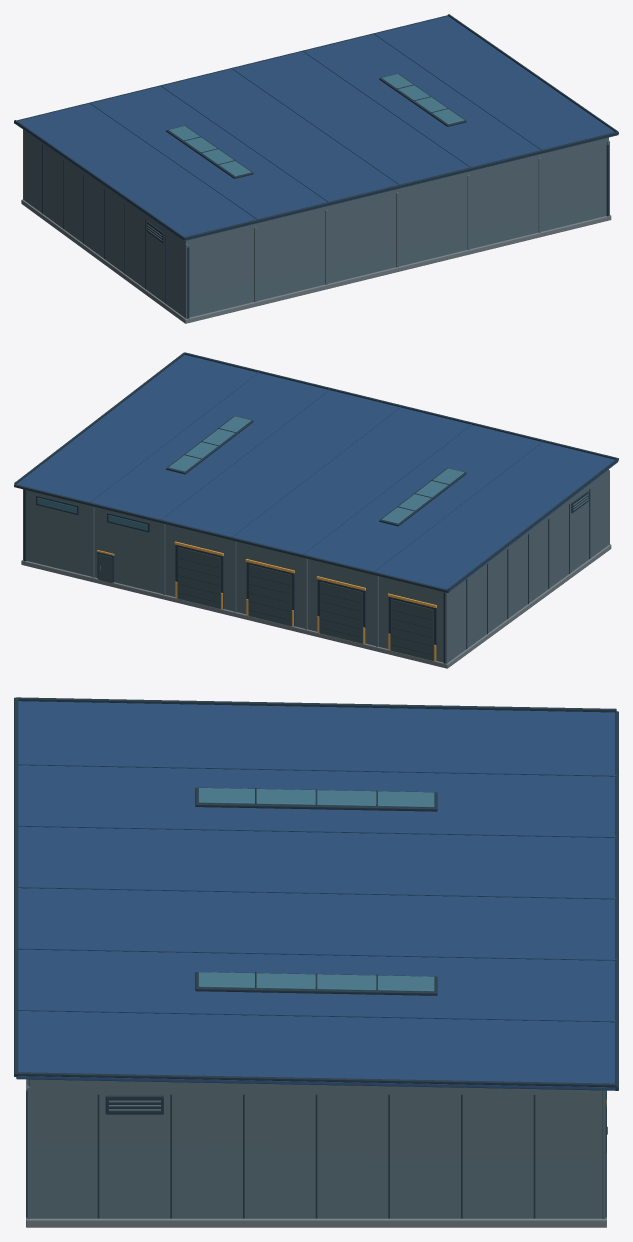
The model's file is d09_warehouses_02.glb.
The picture shows the model from 3 angles, top to bottom: view 1: azimuth 30°, elevation 25°; view 2: azimuth 150°, elevation 25°; view 3: azimuth 270°, elevation 25°; orthographic projection. The views are drawn at different scales.
Parts seen in each view (by area): view 1: D09Warehouses02_Mesh; view 2: D09Warehouses02_Mesh; view 3: D09Warehouses02_Mesh.
Boxes of the visible parts, x1,y1,x2,y2 form: D09Warehouses02_Mesh: [14, 14, 618, 323]; D09Warehouses02_Mesh: [14, 352, 618, 668]; D09Warehouses02_Mesh: [14, 697, 618, 1227].
Size of the model in its own units: 36.76 by 7.21 by 24.98.
